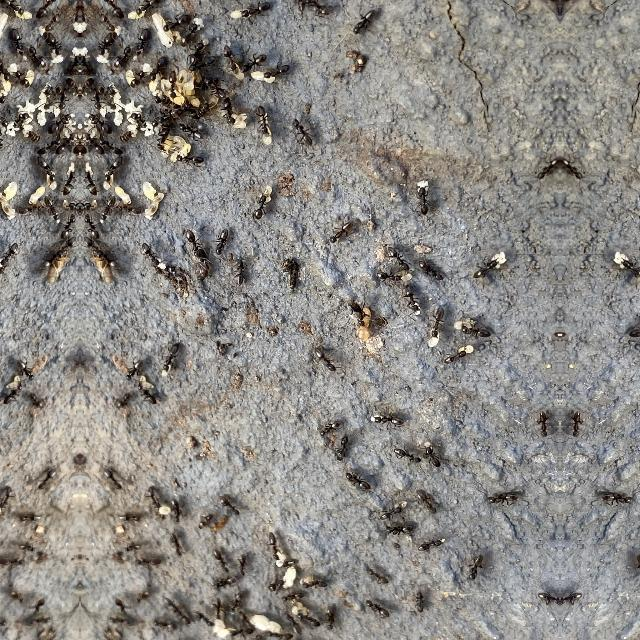Tapinoma: (348, 0, 382, 38), (470, 253, 506, 287), (457, 319, 493, 347), (159, 336, 183, 376), (166, 596, 194, 628), (261, 57, 293, 85), (614, 253, 640, 287), (282, 254, 304, 294), (290, 114, 314, 150), (311, 344, 337, 376), (185, 228, 208, 264), (253, 104, 273, 144), (238, 0, 274, 22), (363, 594, 391, 622), (417, 259, 445, 287), (344, 469, 374, 495), (388, 243, 414, 273), (535, 152, 559, 184), (374, 407, 406, 431), (561, 152, 585, 184), (383, 517, 417, 539), (218, 491, 244, 519), (164, 261, 192, 287), (392, 444, 422, 468), (113, 594, 137, 624), (23, 594, 47, 624), (364, 562, 391, 588), (427, 304, 445, 342), (328, 222, 354, 248), (240, 50, 266, 76), (160, 10, 188, 34), (86, 109, 114, 133), (46, 109, 74, 133), (141, 240, 163, 270), (148, 52, 168, 84), (403, 282, 423, 314), (300, 575, 332, 595), (103, 463, 125, 492), (35, 463, 57, 492), (187, 41, 206, 74), (294, 608, 320, 632), (417, 532, 445, 554), (222, 93, 240, 127), (133, 551, 163, 571), (212, 227, 230, 260), (348, 298, 367, 329), (149, 111, 177, 132), (318, 416, 342, 440), (252, 190, 270, 222), (144, 481, 162, 513), (416, 182, 432, 218), (83, 131, 105, 157), (55, 131, 77, 157), (418, 488, 438, 516), (376, 268, 404, 288), (266, 529, 282, 563), (232, 254, 248, 288), (534, 407, 550, 441), (570, 407, 586, 441), (99, 193, 117, 223), (134, 26, 152, 56), (43, 193, 61, 223), (0, 240, 18, 270), (8, 26, 26, 56), (423, 443, 442, 471), (444, 344, 468, 366), (382, 498, 406, 520), (138, 382, 160, 406), (0, 382, 22, 406), (486, 488, 512, 508), (94, 28, 114, 54), (608, 488, 634, 508), (0, 551, 26, 571), (46, 28, 66, 54), (468, 550, 484, 582), (0, 481, 16, 513), (150, 616, 178, 634), (104, 158, 122, 185), (38, 158, 56, 185), (222, 47, 238, 77), (211, 548, 231, 572), (180, 22, 200, 46), (102, 0, 126, 20), (121, 505, 145, 525), (34, 0, 58, 20), (15, 505, 39, 525), (208, 74, 226, 100), (116, 200, 142, 218), (106, 614, 132, 632), (18, 200, 44, 218), (28, 614, 54, 632), (95, 246, 116, 268), (196, 510, 217, 532), (1, 0, 26, 18), (82, 168, 98, 196), (228, 590, 244, 618), (62, 168, 78, 196), (101, 13, 121, 35), (44, 246, 64, 268), (39, 13, 59, 35), (178, 122, 202, 140), (132, 0, 156, 18), (100, 138, 124, 156), (238, 612, 256, 636), (305, 0, 329, 18), (36, 138, 60, 156), (336, 433, 350, 463), (236, 550, 250, 580), (121, 538, 142, 558), (17, 538, 38, 558), (152, 92, 175, 110), (196, 610, 216, 630), (280, 554, 300, 574), (133, 586, 153, 606), (7, 586, 27, 606), (130, 108, 148, 130), (266, 577, 288, 595), (128, 66, 146, 88), (82, 212, 100, 234), (124, 359, 142, 381), (12, 108, 30, 130), (14, 66, 32, 88), (18, 359, 36, 381), (80, 76, 94, 104), (155, 126, 169, 154), (169, 495, 183, 523), (413, 587, 427, 615), (170, 529, 184, 557), (626, 319, 640, 347), (66, 76, 80, 104), (166, 69, 178, 101), (80, 52, 96, 76), (116, 43, 132, 67), (64, 52, 80, 76), (28, 43, 44, 67), (115, 388, 133, 409), (27, 388, 45, 409), (61, 212, 78, 234), (175, 148, 195, 166), (0, 52, 12, 82), (195, 100, 212, 120), (541, 590, 559, 608), (561, 590, 579, 608), (180, 99, 197, 118), (213, 574, 233, 590), (192, 74, 208, 94), (324, 606, 336, 632), (282, 590, 304, 604), (100, 82, 118, 98), (212, 596, 224, 620), (42, 82, 60, 98), (120, 128, 136, 144), (24, 128, 40, 144), (94, 88, 105, 110), (80, 197, 94, 213), (66, 197, 80, 213), (56, 88, 66, 110), (0, 110, 10, 131), (0, 614, 10, 634), (80, 132, 88, 156), (80, 0, 88, 24), (72, 132, 80, 156), (72, 0, 80, 24), (634, 550, 640, 580), (0, 125, 4, 152), (0, 92, 6, 110)
